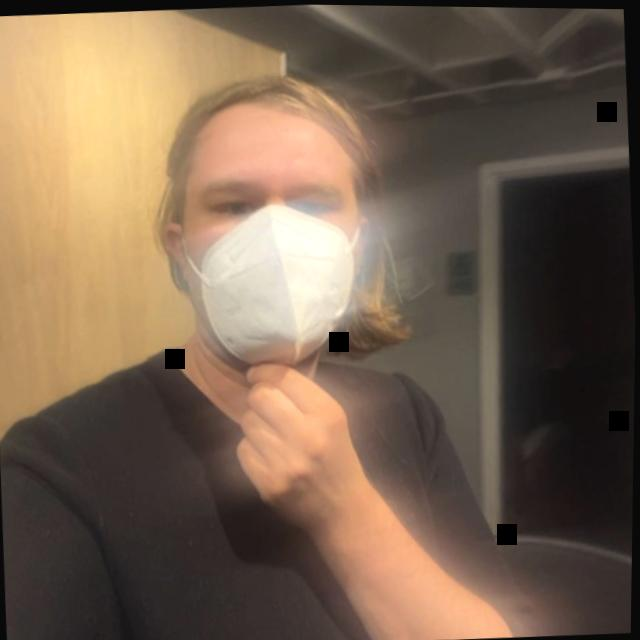Mask: (140, 59, 408, 395)
